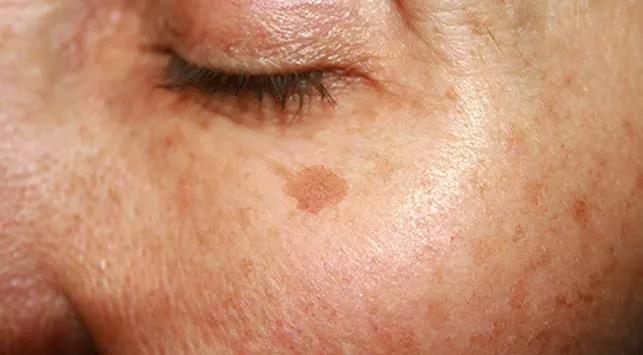Flek Hitam: (262, 151, 399, 244)
